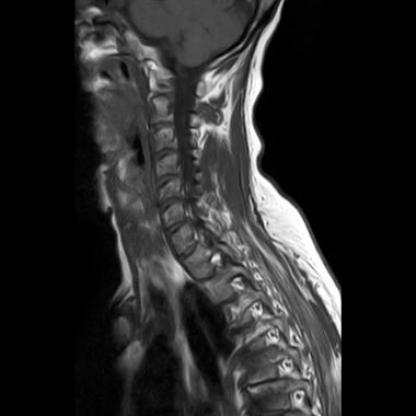Disc Bulgerotation: (155, 193, 186, 211), (162, 215, 192, 233), (153, 173, 182, 188)
